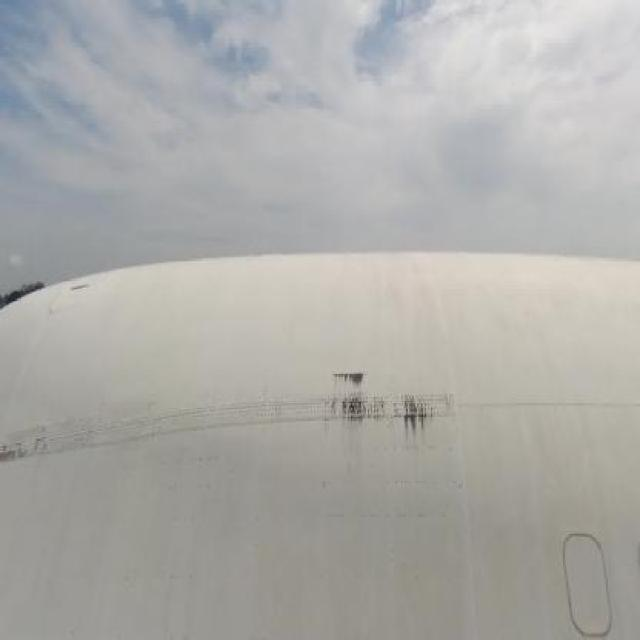Rust: (318, 361, 457, 459)
Scartch: (0, 412, 69, 488)
